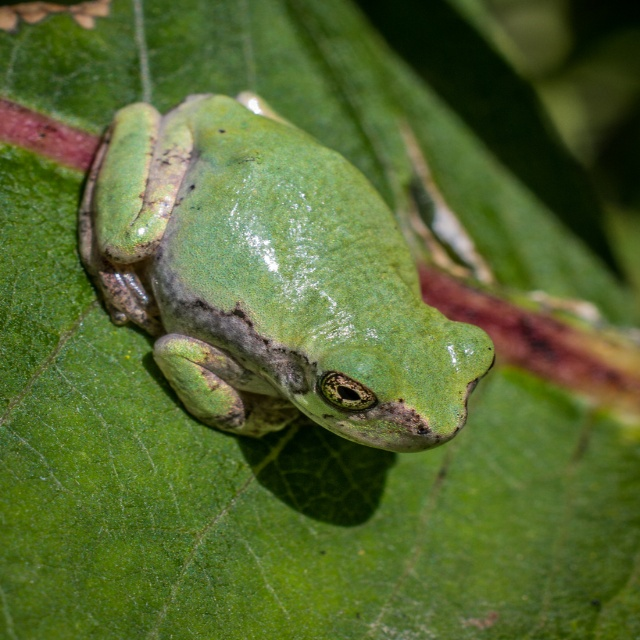Frog: (74, 89, 501, 454)
